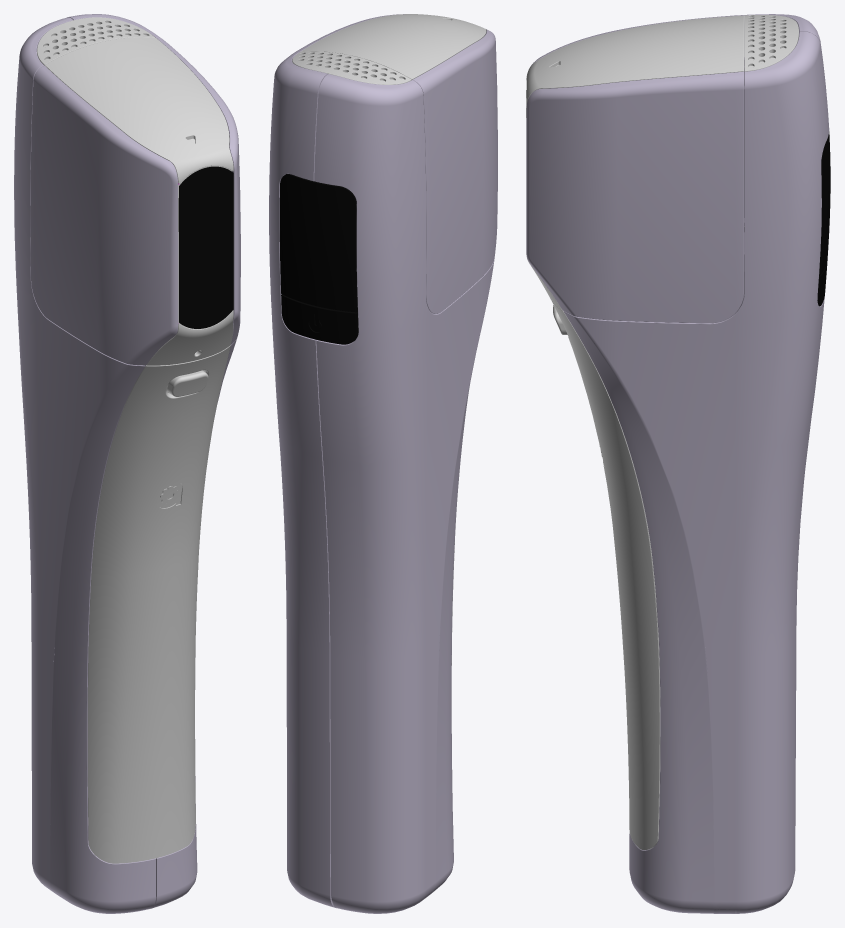
File: jd035_web.glb
3 views of the same model, side by side, from view 1: azimuth 30°, elevation 25°; view 2: azimuth 150°, elevation 25°; view 3: azimuth 270°, elevation 25° (orthographic). The views are drawn at different scales.
Parts seen in each view (by area): view 1: Default(CC243C1E-7869-438E-9CA4-C7F21C04C4C3), Default(E2D0542E-F5D5-412F-AF74-A5569BDE763E), Default(8B5F39D7-8580-4841-A37B-61B43BBDFCC1), Default(4F2F54FB-B0DE-4FF1-8B0A-0013C22266F2), Default(45A37168-1AC1-401C-8044-8480A9DA710B), Default(D1909546-FCBF-450E-8F3A-4BFE177BEB58), Default(490FFEED-2447-4AE6-8705-50F6AB66AF9F), Default(F42D30F5-1A34-41C0-ADEA-34723BC0FB08); view 2: Default(E2D0542E-F5D5-412F-AF74-A5569BDE763E), Default(490FFEED-2447-4AE6-8705-50F6AB66AF9F), Default(8B5F39D7-8580-4841-A37B-61B43BBDFCC1), Default(642C21D4-7DE5-4BD0-A3F0-E7B12F1B54A2), Default(4F2F54FB-B0DE-4FF1-8B0A-0013C22266F2), Default(EFB65D99-A319-4564-BF35-E7F745971904), Default(D1909546-FCBF-450E-8F3A-4BFE177BEB58); view 3: Default(490FFEED-2447-4AE6-8705-50F6AB66AF9F), Default(8B5F39D7-8580-4841-A37B-61B43BBDFCC1), Default(CC243C1E-7869-438E-9CA4-C7F21C04C4C3), Default(4F2F54FB-B0DE-4FF1-8B0A-0013C22266F2), Default(D1909546-FCBF-450E-8F3A-4BFE177BEB58), Default(642C21D4-7DE5-4BD0-A3F0-E7B12F1B54A2).
Part boxes in pixels (x1,y1,x2,y2): Default(CC243C1E-7869-438E-9CA4-C7F21C04C4C3): (87, 345, 230, 863); Default(E2D0542E-F5D5-412F-AF74-A5569BDE763E): (14, 17, 155, 913); Default(8B5F39D7-8580-4841-A37B-61B43BBDFCC1): (30, 38, 240, 365); Default(4F2F54FB-B0DE-4FF1-8B0A-0013C22266F2): (45, 37, 233, 365); Default(45A37168-1AC1-401C-8044-8480A9DA710B): (179, 166, 233, 328); Default(D1909546-FCBF-450E-8F3A-4BFE177BEB58): (37, 17, 155, 65); Default(490FFEED-2447-4AE6-8705-50F6AB66AF9F): (67, 14, 236, 908); Default(F42D30F5-1A34-41C0-ADEA-34723BC0FB08): (167, 370, 208, 396); Default(E2D0542E-F5D5-412F-AF74-A5569BDE763E): (314, 74, 494, 913); Default(490FFEED-2447-4AE6-8705-50F6AB66AF9F): (269, 52, 336, 908); Default(8B5F39D7-8580-4841-A37B-61B43BBDFCC1): (294, 14, 497, 313); Default(642C21D4-7DE5-4BD0-A3F0-E7B12F1B54A2): (279, 174, 357, 312); Default(4F2F54FB-B0DE-4FF1-8B0A-0013C22266F2): (300, 14, 486, 79); Default(EFB65D99-A319-4564-BF35-E7F745971904): (281, 294, 358, 344); Default(D1909546-FCBF-450E-8F3A-4BFE177BEB58): (292, 51, 411, 84); Default(490FFEED-2447-4AE6-8705-50F6AB66AF9F): (563, 31, 829, 913); Default(8B5F39D7-8580-4841-A37B-61B43BBDFCC1): (526, 15, 743, 323); Default(CC243C1E-7869-438E-9CA4-C7F21C04C4C3): (552, 301, 660, 850); Default(4F2F54FB-B0DE-4FF1-8B0A-0013C22266F2): (526, 15, 743, 309); Default(D1909546-FCBF-450E-8F3A-4BFE177BEB58): (744, 15, 798, 71); Default(642C21D4-7DE5-4BD0-A3F0-E7B12F1B54A2): (819, 131, 830, 275).
Bounding box in the file's own units: 0.0195 × 0.1108 × 0.0356.
